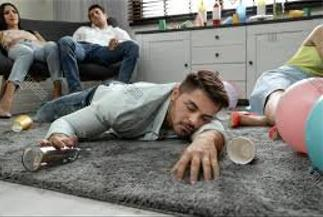Drunk: (174, 91, 215, 134)
